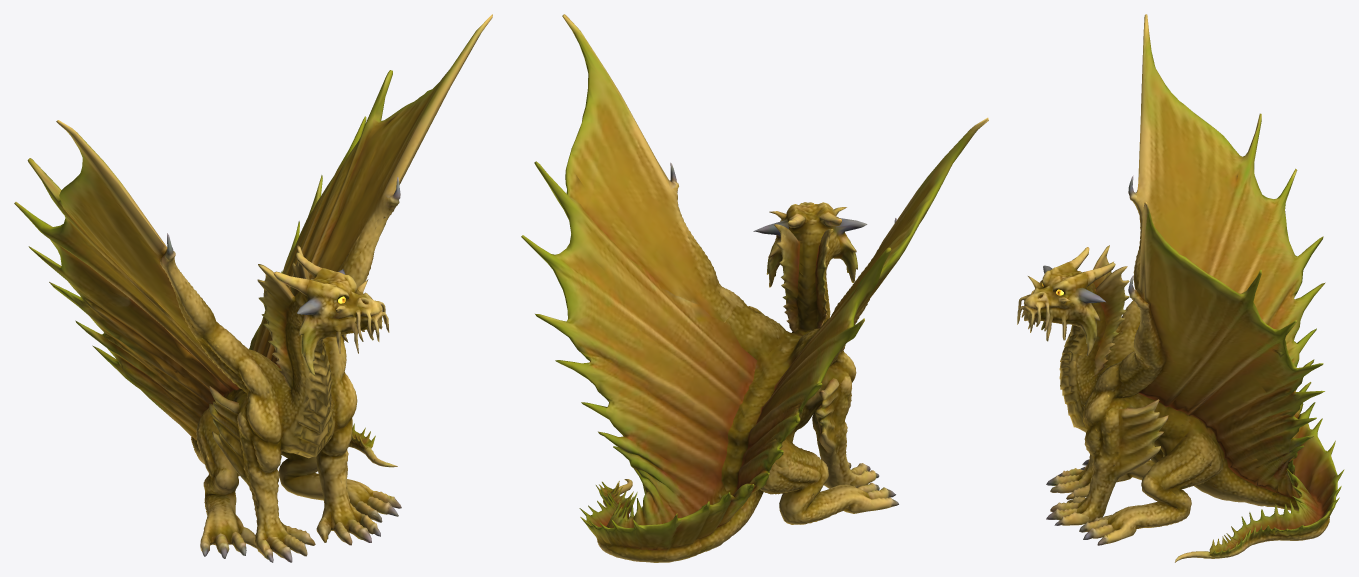
File: MZ4250 - Dragon Gold Wyrmling.glb
The picture shows the model from 3 angles, left to right: view 1: azimuth 30°, elevation 25°; view 2: azimuth 150°, elevation 25°; view 3: azimuth 270°, elevation 25°; orthographic projection. The views are drawn at different scales.
Parts seen in each view (by area): view 1: Cylinder.001; view 2: Cylinder.001; view 3: Cylinder.001.
Boxes of the visible parts, <box> form: Cylinder.001: <box>14,14,492,562</box>; Cylinder.001: <box>521,14,988,562</box>; Cylinder.001: <box>1017,14,1344,562</box>.
Bounding box in the file's own units: 0.6505 × 0.6379 × 0.4771.
Materials: 1 (1 with a texture image).
